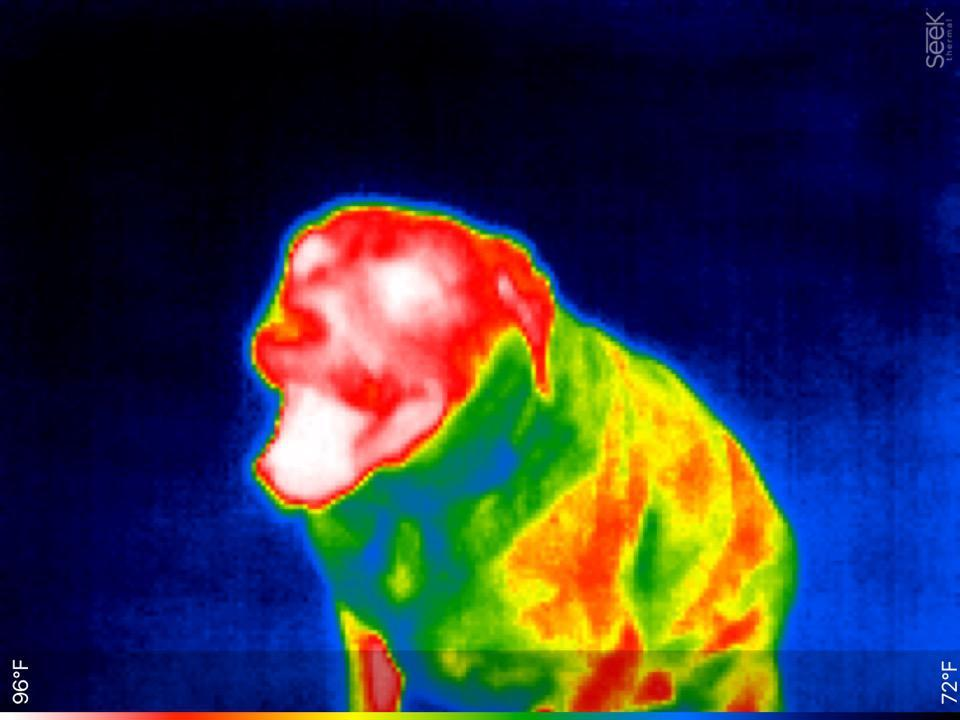dog: (229, 188, 801, 710)
